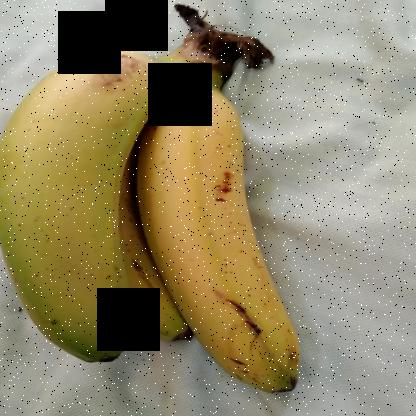freshripe: (0, 41, 170, 378)
ripe: (138, 90, 306, 402)
